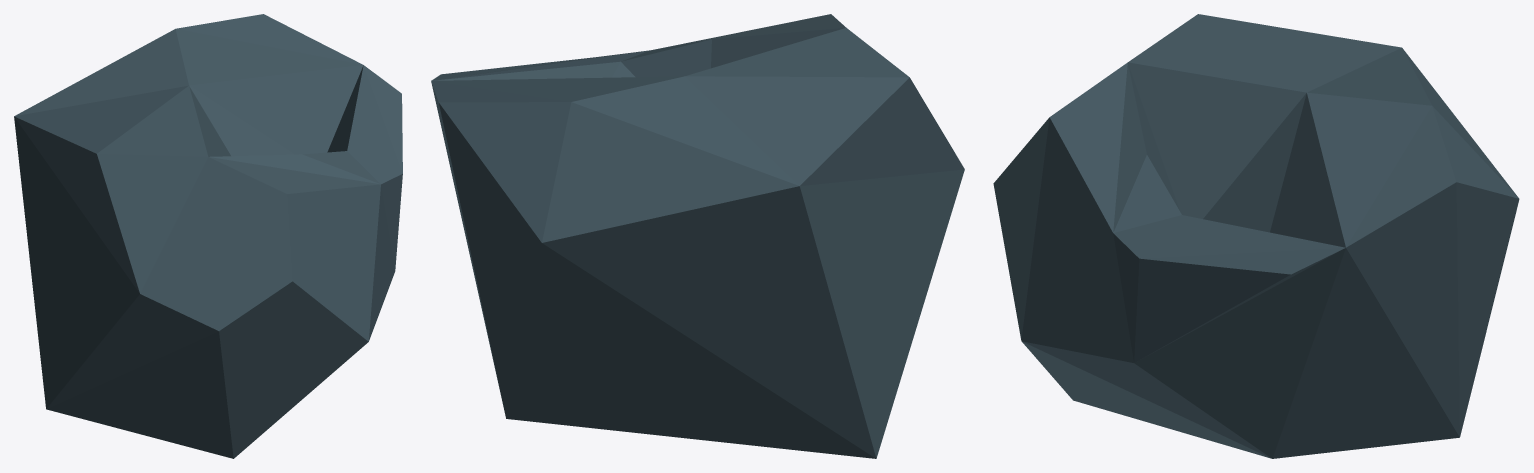
3 renders of one model, left to right at view 1: azimuth 30°, elevation 25°; view 2: azimuth 150°, elevation 25°; view 3: azimuth 270°, elevation 25°, orthographic. The views are drawn at different scales.
Parts seen in each view (by area): view 1: mesh_1458914658; view 2: mesh_1458914658; view 3: mesh_1458914658.
Part boxes in pixels (x1=…): mesh_1458914658: x1=14, y1=14, x2=402, y2=458; mesh_1458914658: x1=431, y1=14, x2=964, y2=458; mesh_1458914658: x1=993, y1=14, x2=1519, y2=458.
Size of the model in its own units: 8.38 by 6.65 by 9.09.
